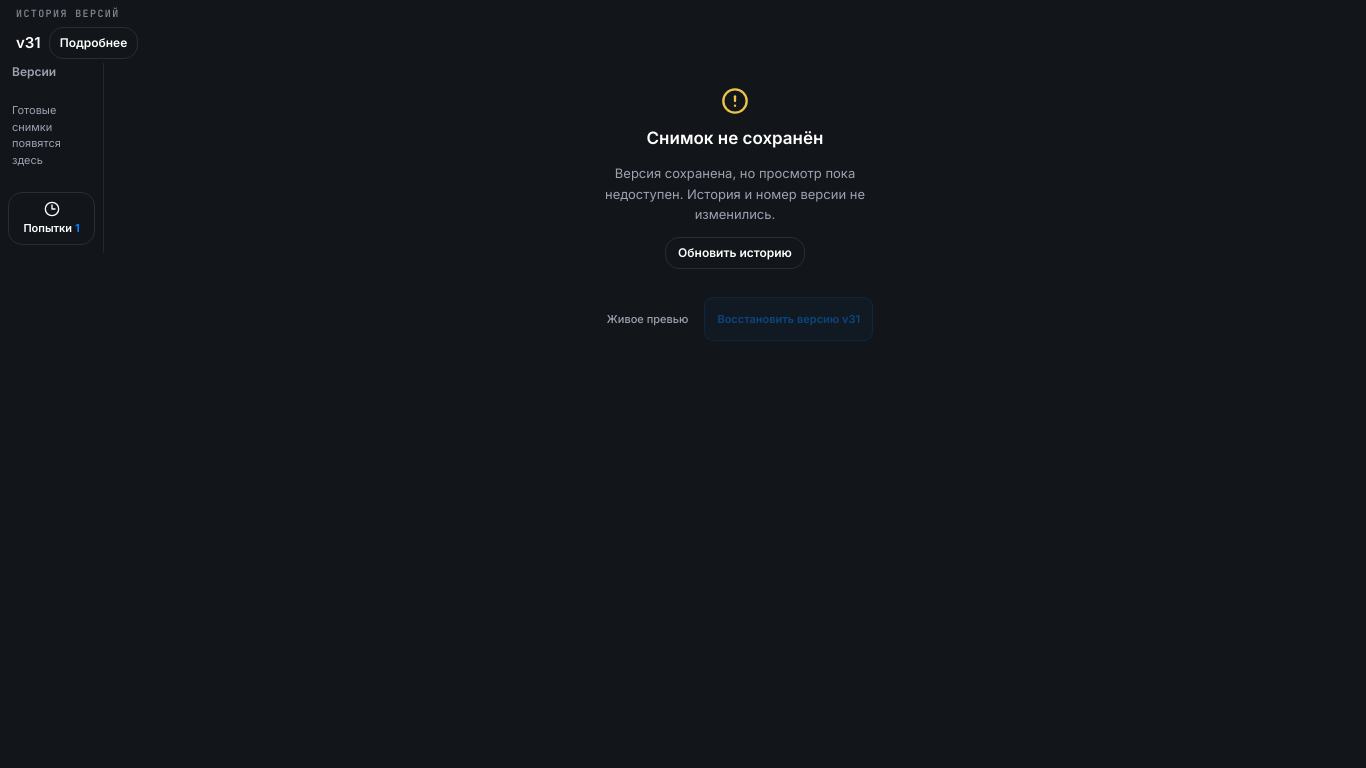
allows explicit preparation from image-less history while preserving server admission
What coordinates should you click on to do the following:
click the button with test id "max-history-activity-open"
I would click on:
 (52, 218)
Its box is [8, 192, 95, 245].
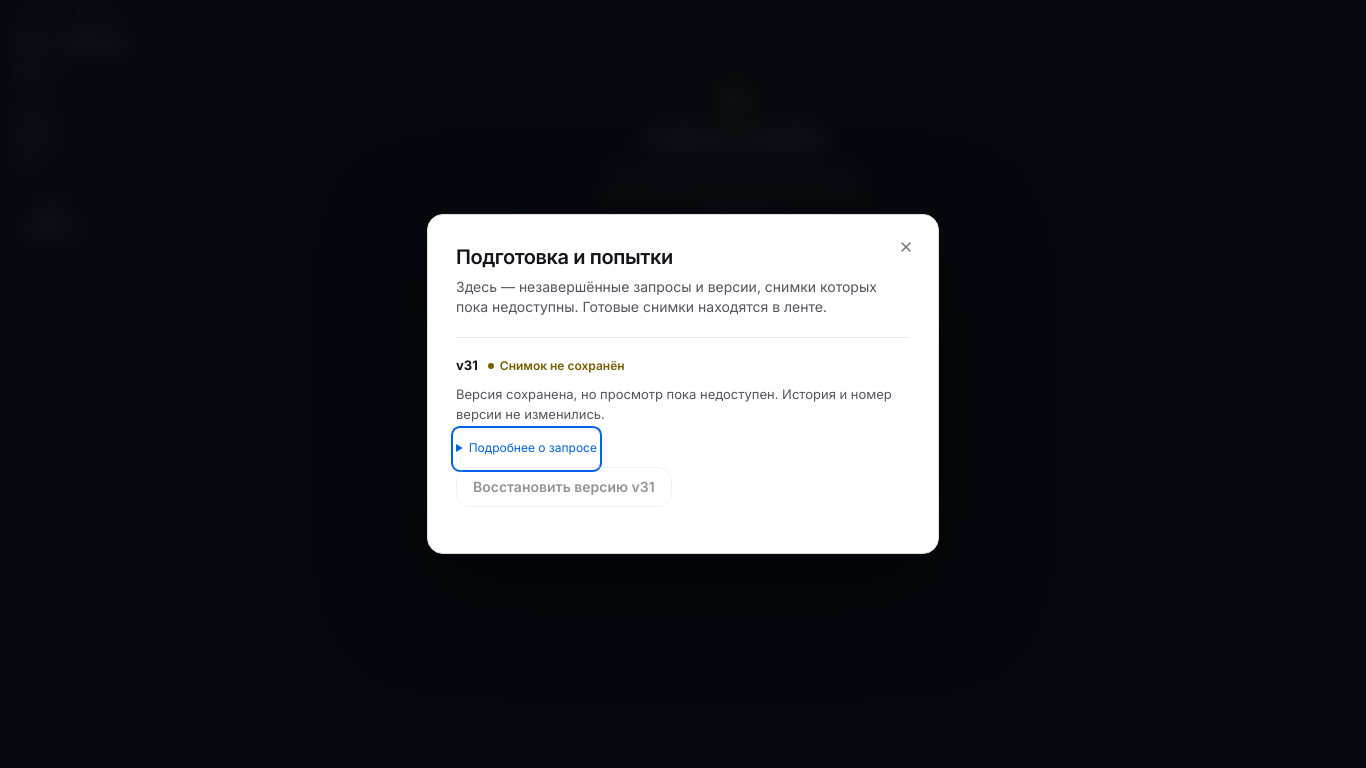
Expected: the button with test id "max-history-prepare-v31" is disabled, [456, 467, 672, 507]
Expected: the button with test id "max-history-prepare-v31" shows "Восстановить версию", [456, 467, 672, 507]
